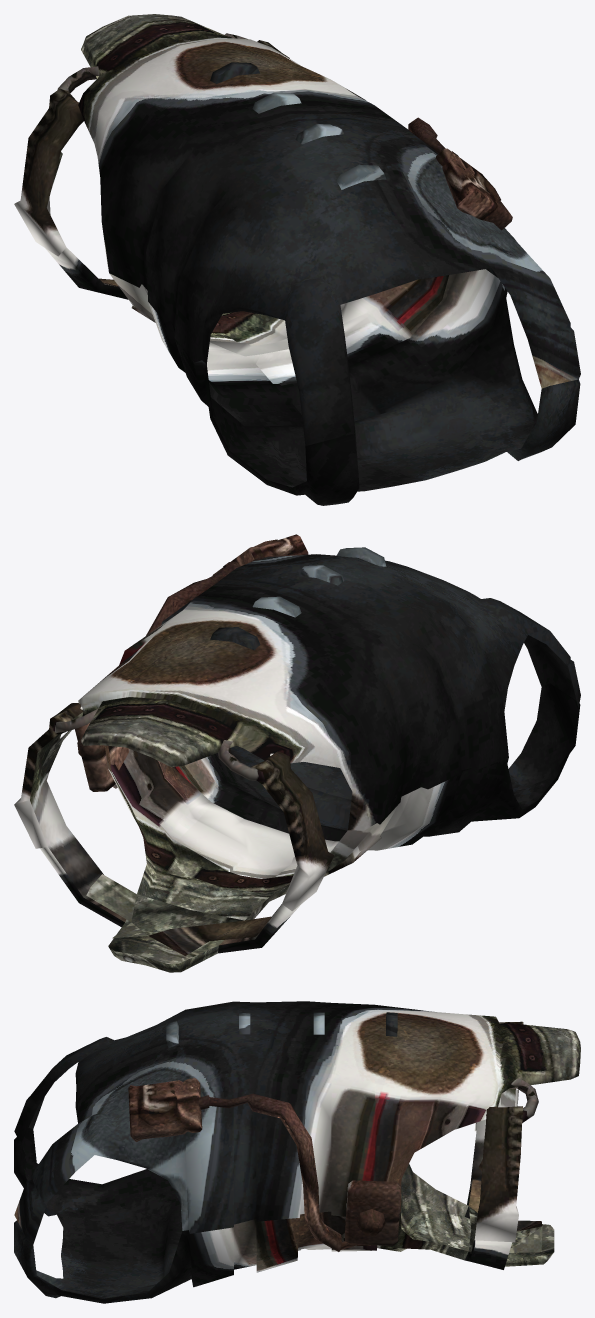
File: bodyarmor.obj
3 views of the same model, one above another, from view 1: azimuth 30°, elevation 25°; view 2: azimuth 150°, elevation 25°; view 3: azimuth 270°, elevation 25° (orthographic). The views are drawn at different scales.
Parts seen in each view (by area): view 1: Upperbody; view 2: Upperbody; view 3: Upperbody.
Boxes of the visible parts, x1,y1,x2,y2 form: Upperbody: (14,14,580,505); Upperbody: (14,534,580,972); Upperbody: (14,1001,580,1303).
Bounding box in the file's own units: 27.86 × 24.1 × 48.88.
